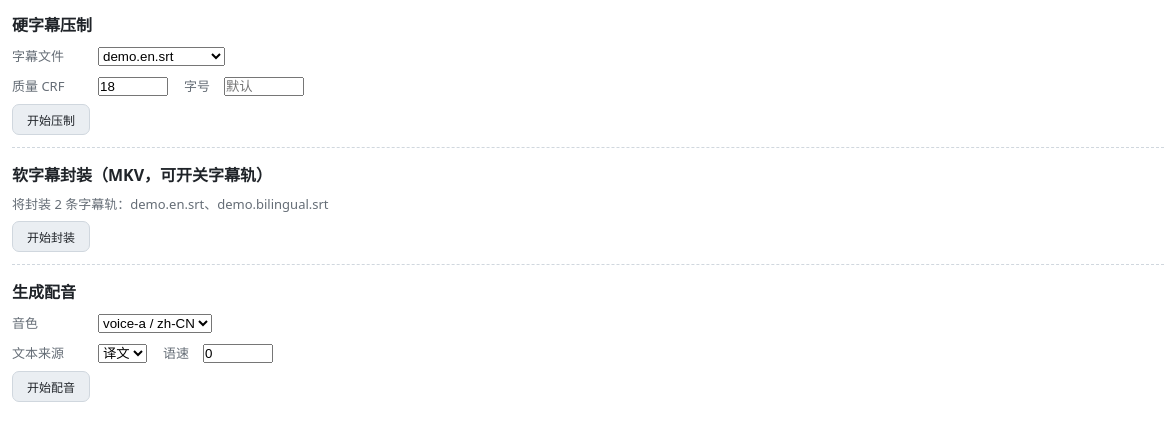
Test: MediaTools › 没有字幕文本时给出错误而不是静默失败
Click the button "开始配音" at point(51, 386), box x1=12 y1=371 x2=90 y2=402
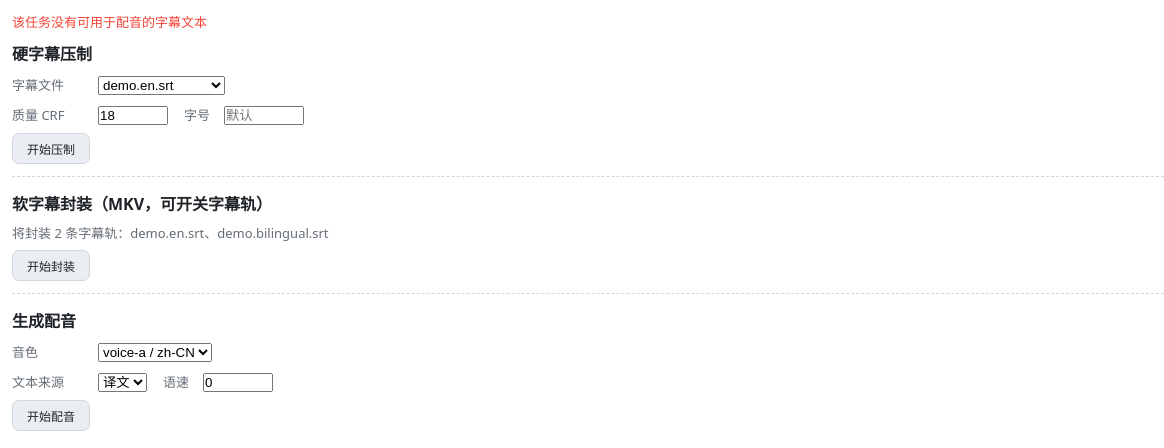
Result: the text "该任务没有可用于配音的字幕文本" is shown at x1=12 y1=13 x2=207 y2=31
